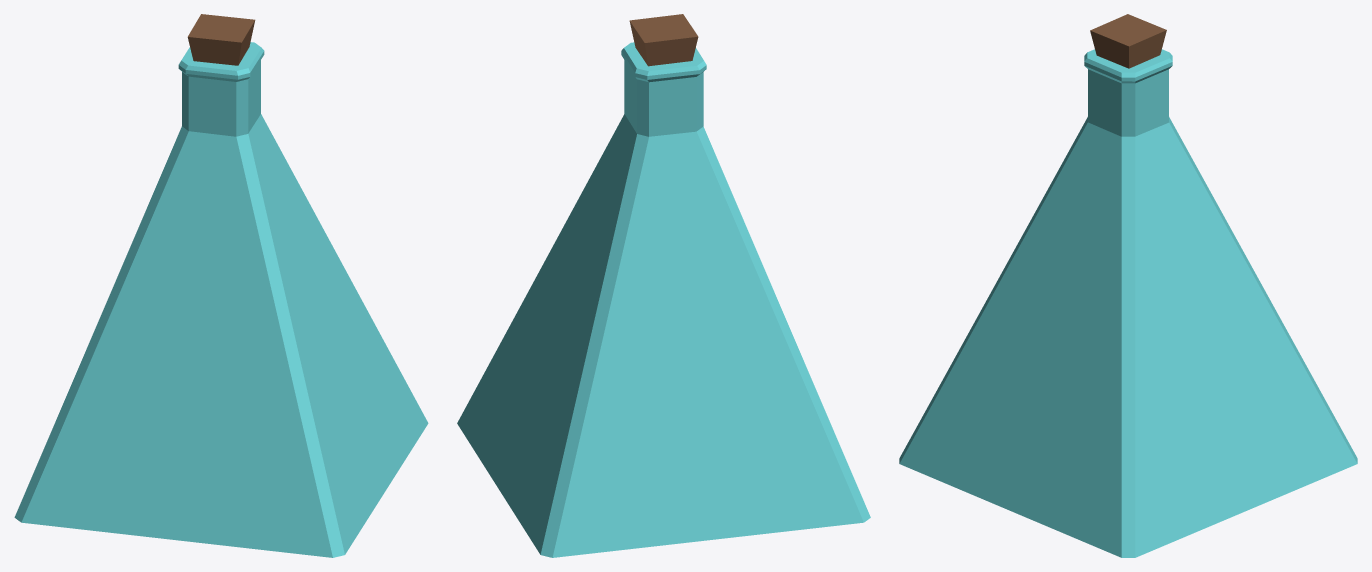
The model's file is Potion_04_Blue.fbx.
The picture shows the model from 3 angles, left to right: view 1: azimuth 30°, elevation 25°; view 2: azimuth 150°, elevation 25°; view 3: azimuth 270°, elevation 25°; orthographic projection. The views are drawn at different scales.
Visible parts, largest first — view 1: Cone.018, Cube.040, Cube.041; view 2: Cone.018, Cube.040, Cube.041; view 3: Cone.018, Cube.040, Cube.041.
Part boxes in pixels (<box>): Cone.018: <box>14,114,428,557</box>; Cube.040: <box>178,42,264,136</box>; Cube.041: <box>187,14,255,65</box>; Cone.018: <box>457,114,870,557</box>; Cube.040: <box>621,42,706,136</box>; Cube.041: <box>629,14,698,66</box>; Cone.018: <box>899,117,1357,557</box>; Cube.040: <box>1084,49,1172,136</box>; Cube.041: <box>1090,14,1166,68</box>.
Size of the model in its own units: 31.08 by 32.26 by 31.08.
